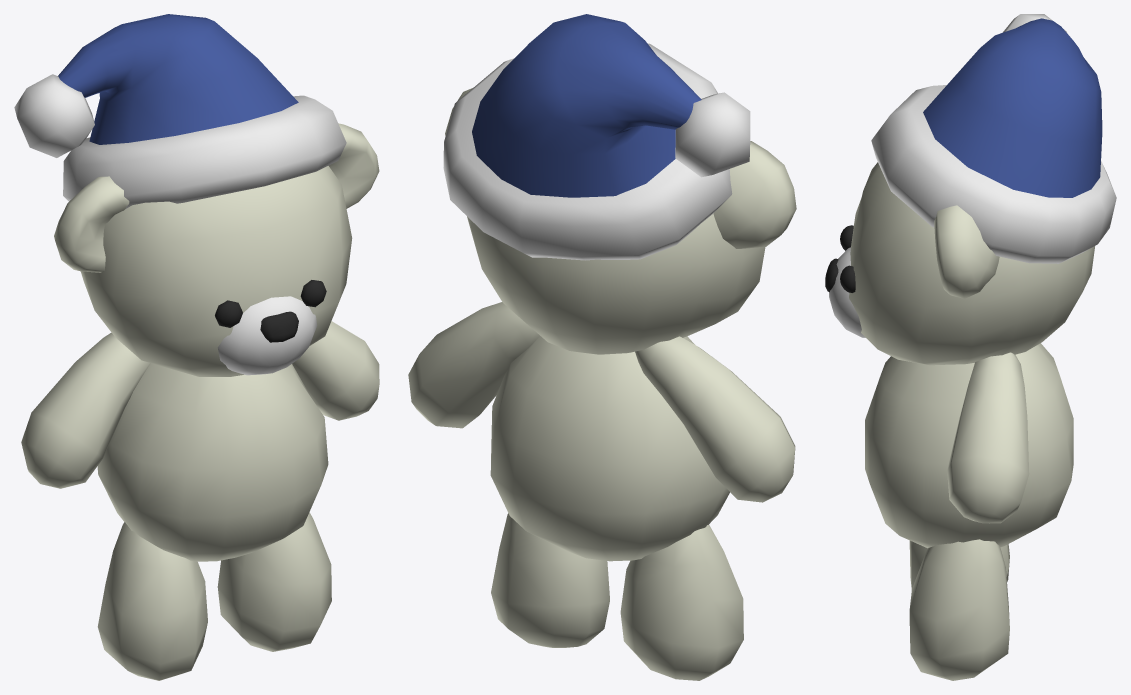
The model's file is TeddyBear_01.fbx.
3 views of the same model, side by side, from view 1: azimuth 30°, elevation 25°; view 2: azimuth 150°, elevation 25°; view 3: azimuth 270°, elevation 25° (orthographic). The views are drawn at different scales.
Visible parts, largest first — view 1: TeddyBear_01_Head, TeddyBear_01, TeddyBear_01_Leg_R, TeddyBear_01_Arm_R, TeddyBear_01_Leg_L, TeddyBear_01_Arm_L; view 2: TeddyBear_01_Head, TeddyBear_01, TeddyBear_01_Leg_R, TeddyBear_01_Arm_R, TeddyBear_01_Leg_L, TeddyBear_01_Arm_L; view 3: TeddyBear_01_Head, TeddyBear_01, TeddyBear_01_Leg_L, TeddyBear_01_Arm_L, TeddyBear_01_Leg_R.
Part boxes in pixels (x1,y1,x2,y2): TeddyBear_01_Head: (14,14,379,376); TeddyBear_01: (97,363,328,561); TeddyBear_01_Leg_R: (97,522,207,680); TeddyBear_01_Arm_R: (21,332,150,488); TeddyBear_01_Leg_L: (217,512,331,651); TeddyBear_01_Arm_L: (292,321,379,420); TeddyBear_01_Head: (443,14,796,354); TeddyBear_01: (490,336,729,561); TeddyBear_01_Leg_R: (620,525,743,680); TeddyBear_01_Arm_R: (635,336,795,502); TeddyBear_01_Leg_L: (491,513,609,647); TeddyBear_01_Arm_L: (408,302,539,428); TeddyBear_01_Head: (825,14,1116,365); TeddyBear_01: (865,343,1073,548); TeddyBear_01_Leg_L: (909,539,1009,680); TeddyBear_01_Arm_L: (947,352,1029,523); TeddyBear_01_Leg_R: (909,540,1009,589).
Bounding box in the file's own units: 0.2941 × 0.5025 × 0.2203.
